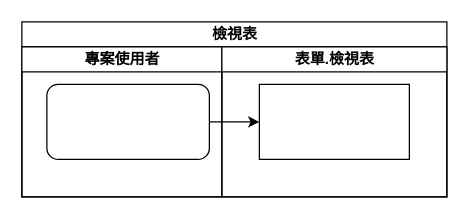
This 469x219 diagram has some shape labels left out. The centre of each missing label's shape, as x and y in pixels:
"取得所有檢視表 並顯示於清單中" goes at pixel 333 121.
"點擊按鈕. 查詢" goes at pixel 127 121.
